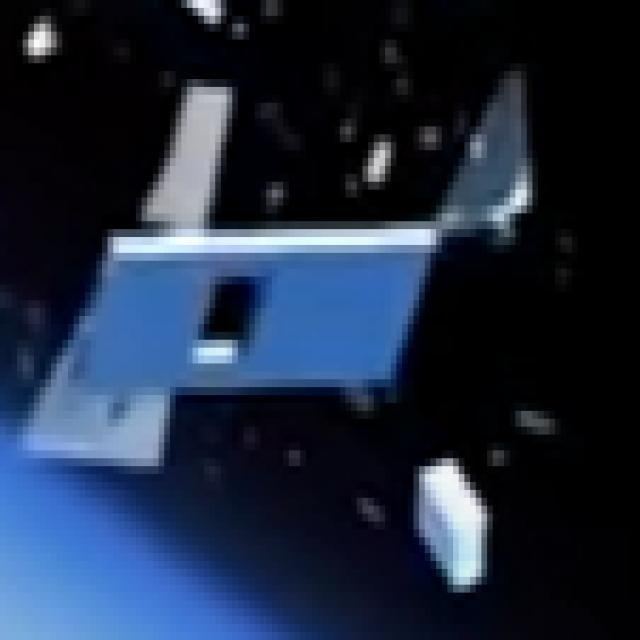large_debris: (4, 67, 272, 518), (51, 213, 460, 428)
medium_debris: (444, 66, 536, 239), (414, 455, 498, 595)
small_debris: (22, 19, 66, 56), (358, 496, 398, 535), (367, 142, 397, 180), (195, 0, 230, 30), (278, 443, 312, 473), (518, 412, 554, 434), (264, 179, 293, 206), (335, 117, 361, 143), (488, 449, 512, 476), (347, 178, 375, 199), (262, 0, 286, 20), (233, 20, 255, 39), (387, 40, 403, 66)
